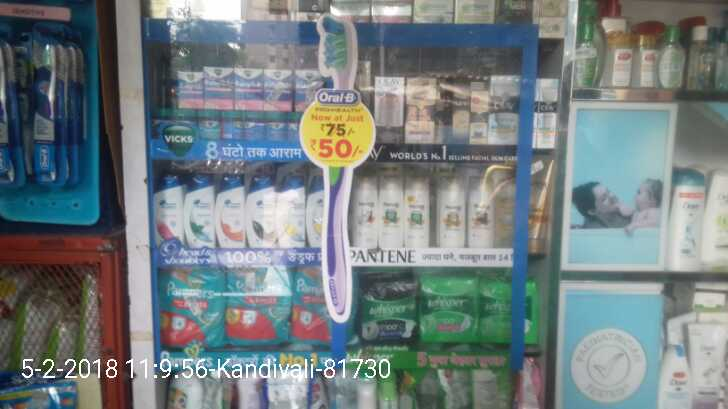vicks: (1, 19, 97, 220), (177, 64, 326, 113)
